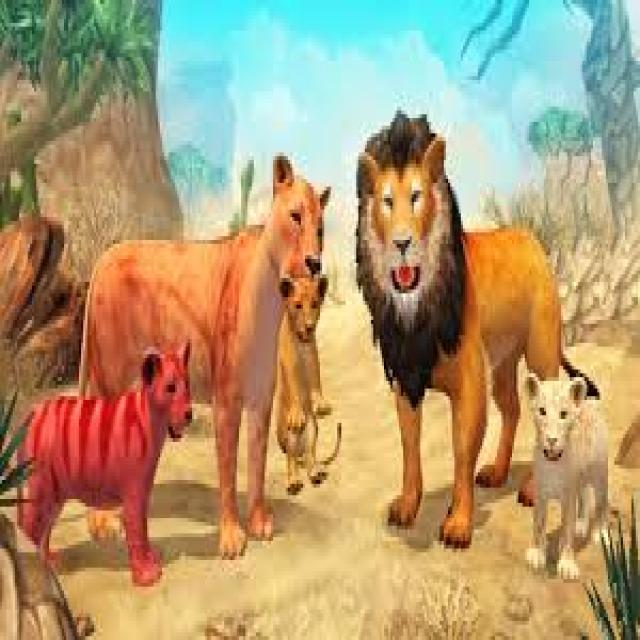Lion: (354, 102, 602, 549)
